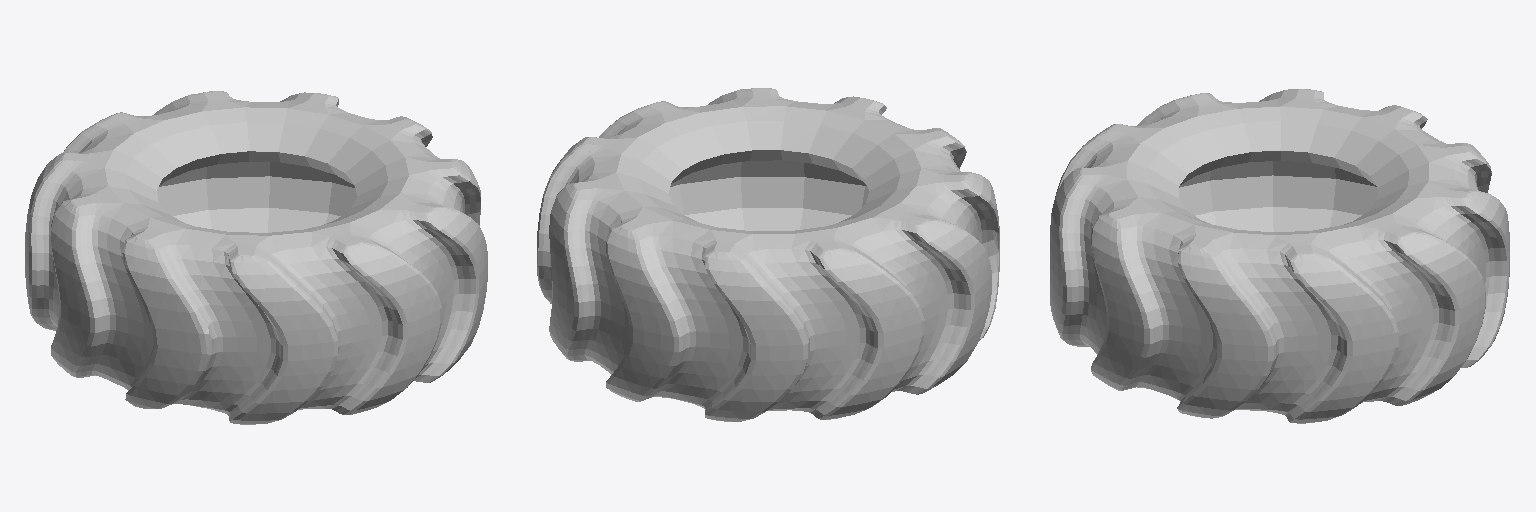
Rendered from tire2.obj.
3 renders of one model, left to right at view 1: azimuth 30°, elevation 25°; view 2: azimuth 150°, elevation 25°; view 3: azimuth 270°, elevation 25°, orthographic.
Bounding box in the file's own units: 4.19 × 1.71 × 4.16.